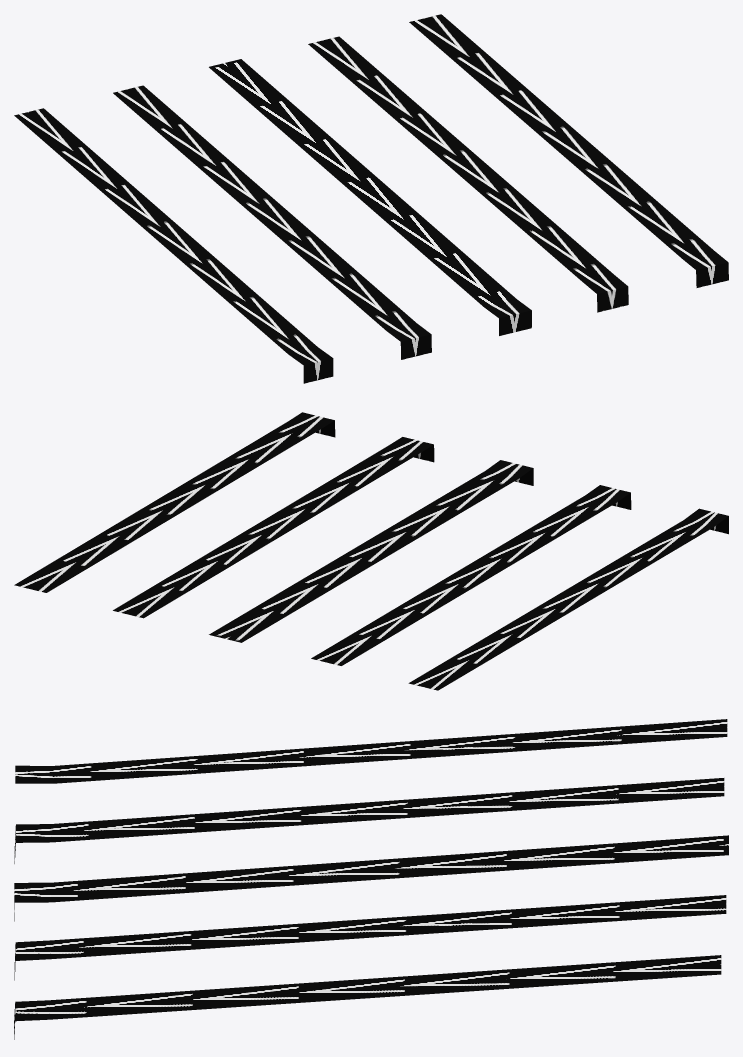
The model's file is ArrowDown.gltf.
The picture shows the model from 3 angles, top to bottom: view 1: azimuth 30°, elevation 25°; view 2: azimuth 150°, elevation 25°; view 3: azimuth 270°, elevation 25°; orthographic projection. The views are drawn at different scales.
Parts seen in each view (by area): view 1: 平面; view 2: 平面; view 3: 平面.
Boxes of the visible parts, x1=… form: 平面: x1=14, y1=14, x2=728, y2=383; 平面: x1=14, y1=412, x2=728, y2=690; 平面: x1=14, y1=719, x2=728, y2=1039.
Size of the model in its own units: 8.63 by 1.11 by 10.24.
Materials: 1 (1 with a texture image).
